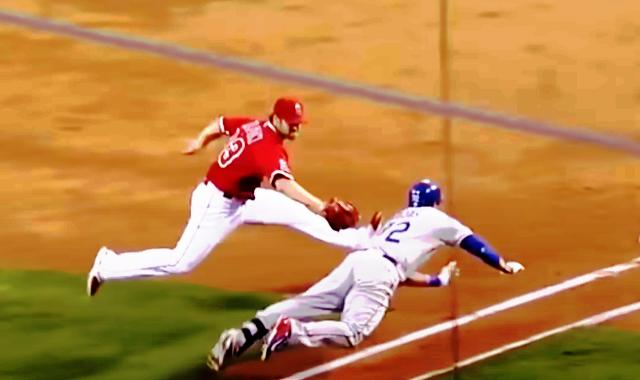jatuh: (202, 175, 528, 378)
